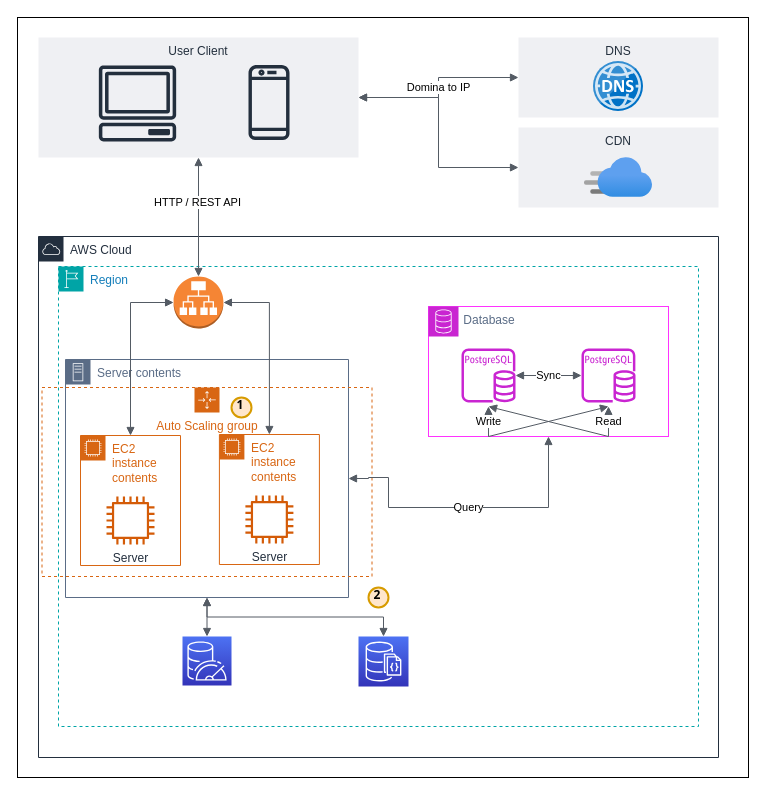
Image size: 766x795. Some labels were removed from this diagram. Each missing label, with the centre of its shape:
Load Balancer: the point at 198,302
Master: the point at 488,375
NoSQL DocumentDB: the point at 383,661
Redis Cache: the point at 207,661
Slave: the point at 608,375
